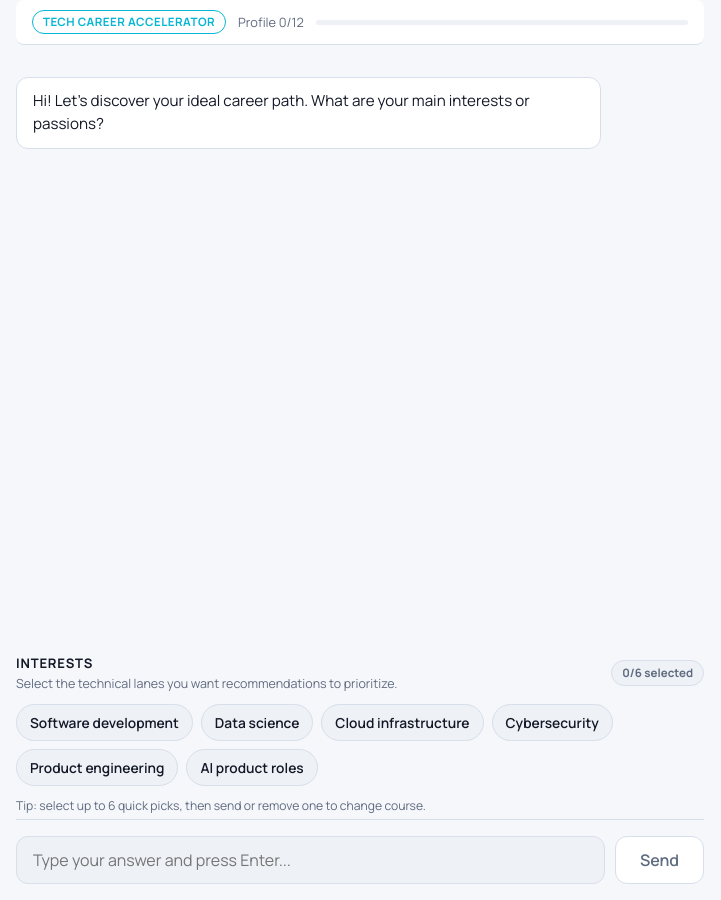
Test: Onboarding › sends message and shows reply
The image size is (721, 900).
Type "I love building software" into the field with placeholder "Type your answer and press Enter..." at (310, 860), box [16,836,605,884]
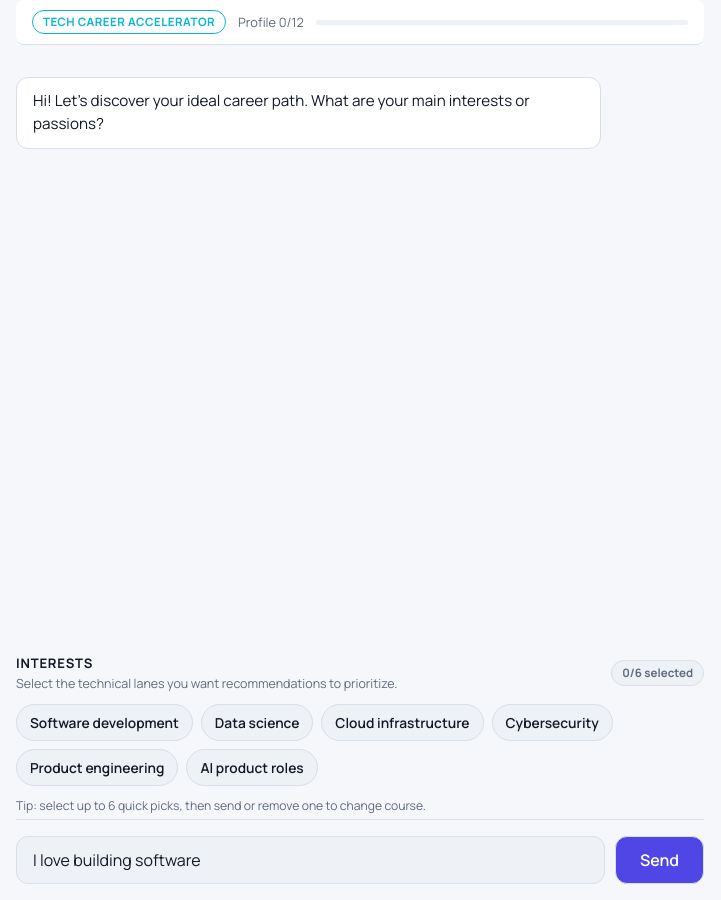
Press Enter
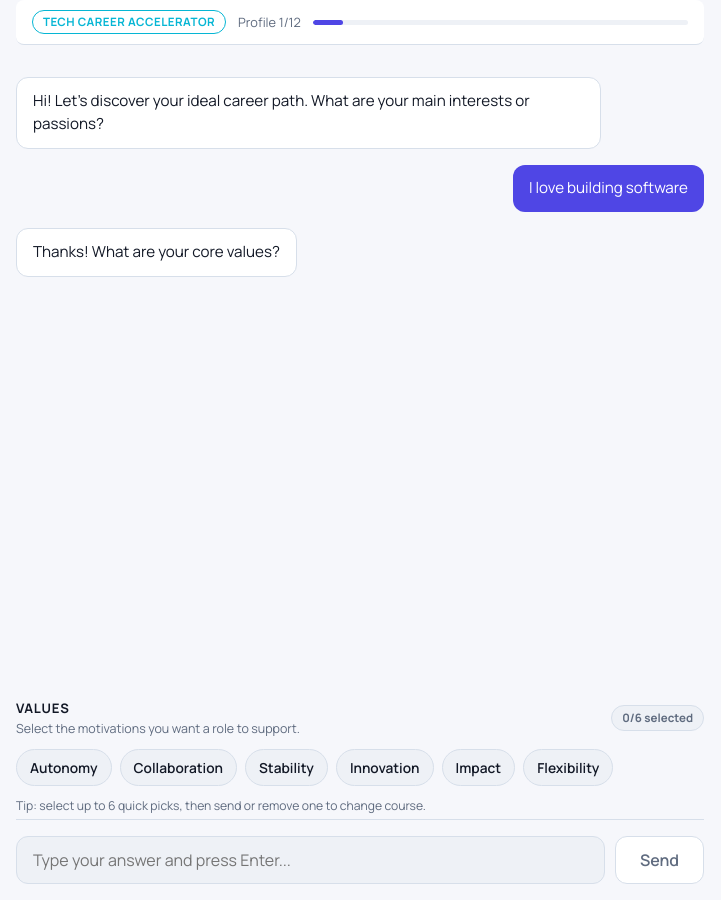
Expected: the text "Thanks! What are your core values?" is shown, [16,228,297,277]
